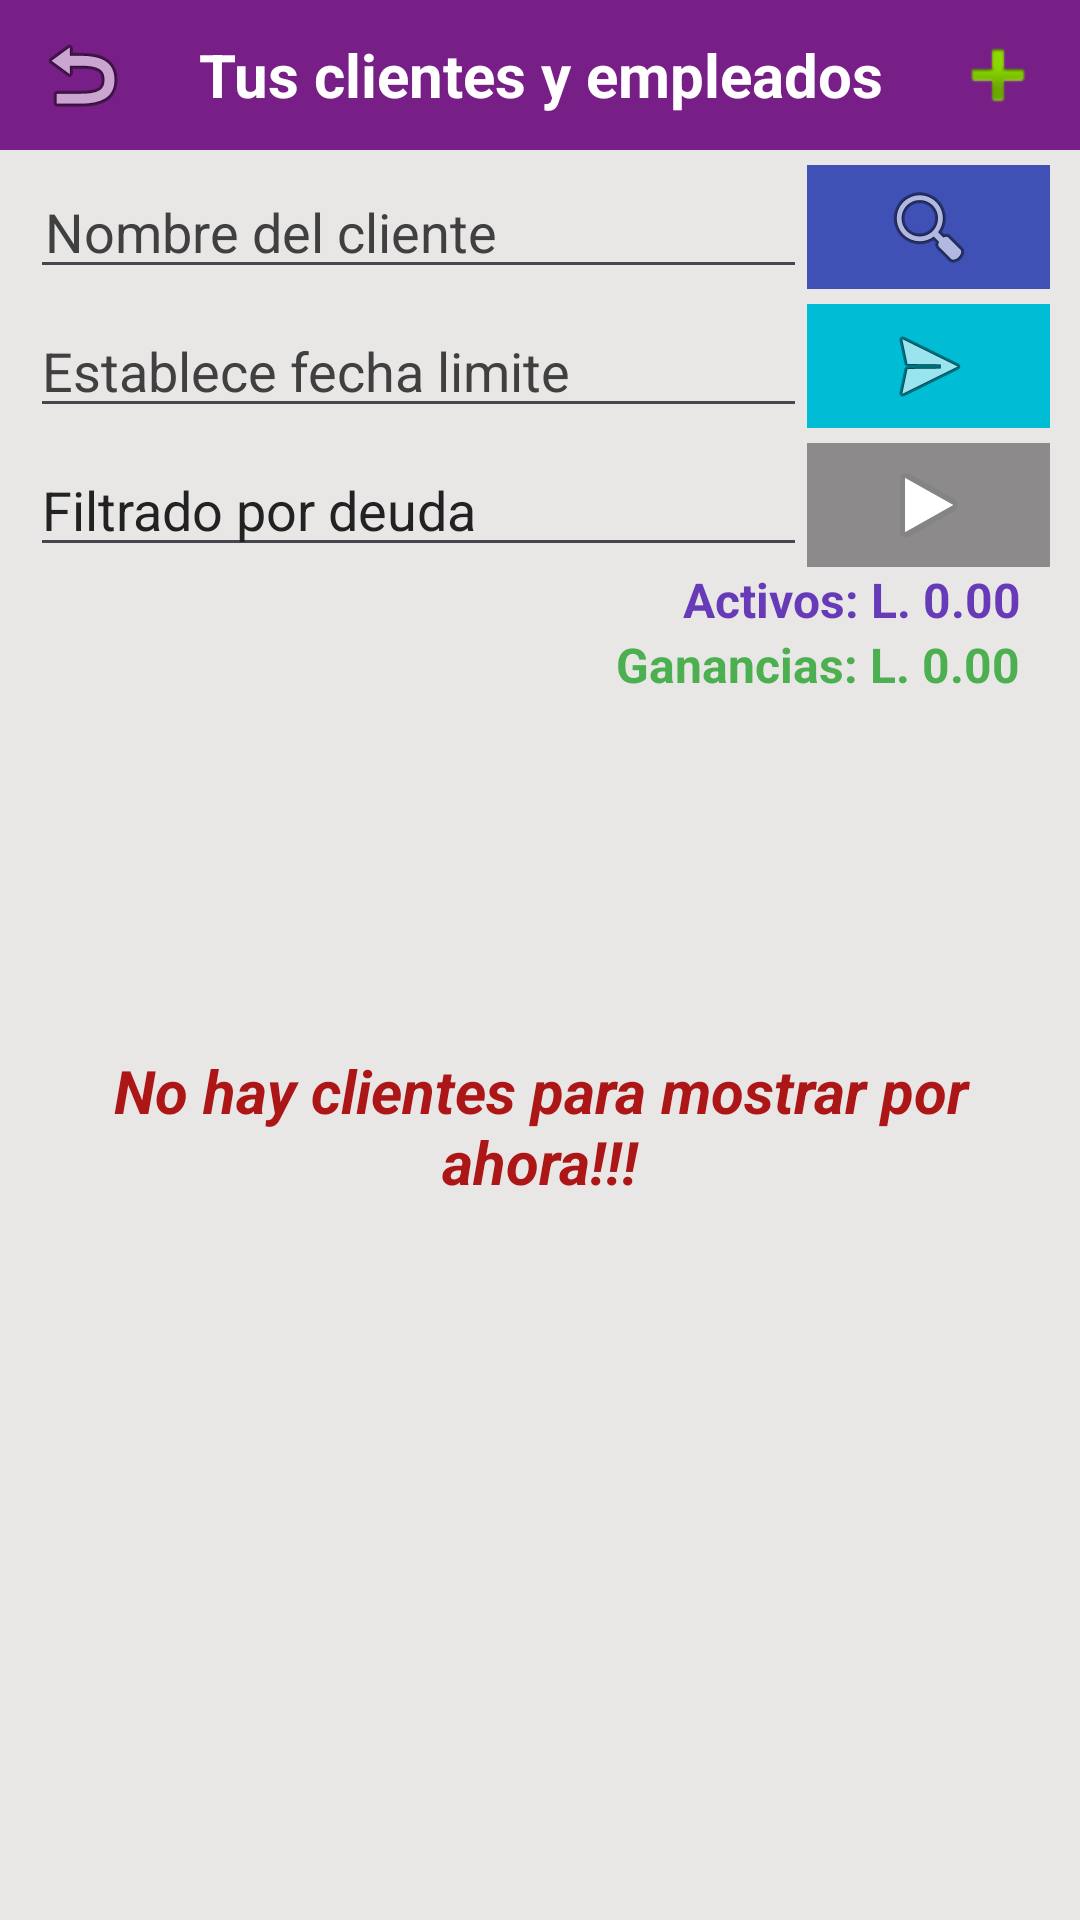

Where icons sit on this 1080w x 1920h app screen, as box(x1, y1, x2, y2):
add: box(971, 48, 1025, 102)
play: box(807, 443, 1050, 567)
revert: box(49, 45, 118, 107)
search: box(807, 165, 1050, 289)
send: box(807, 304, 1050, 428)
